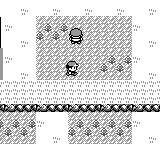main: (66, 61, 79, 76)
npc: (68, 28, 83, 44)
salto: (1, 104, 160, 112)
